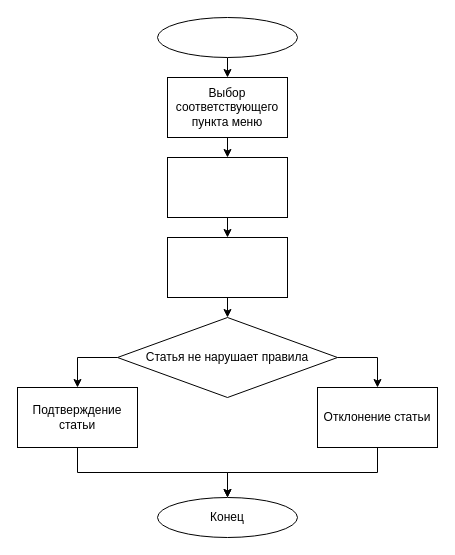
Image size: 455x555. Some labels were removed from this diagram. Here are the shapes that lost their labels. From the top down, the centre of each, then its label:
point (227, 37): Начало
point (227, 187): Выбор статьи
point (227, 267): Просмотр статьи
